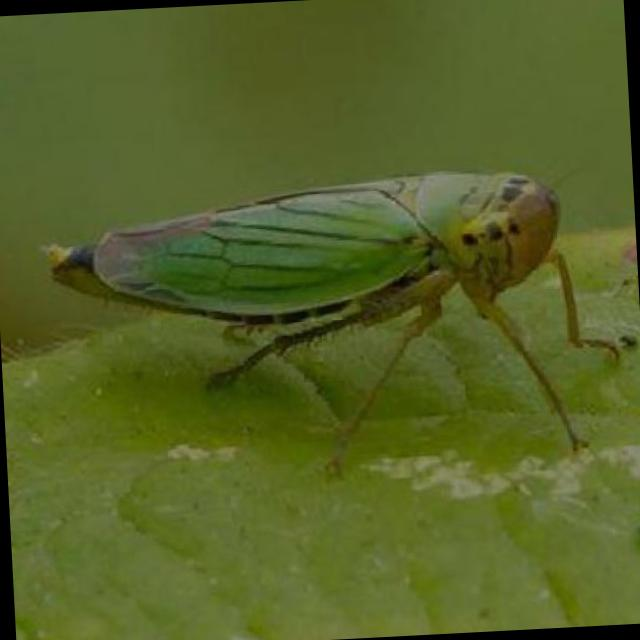rice-bug: (39, 161, 574, 342)
